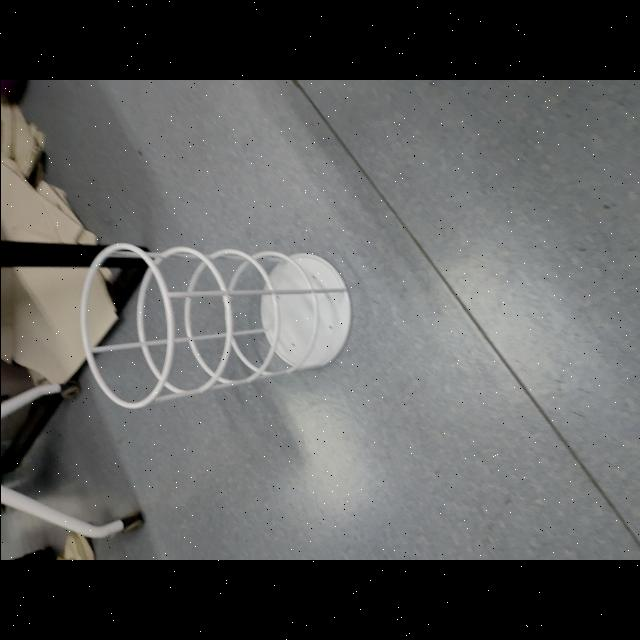S: (77, 238, 353, 412)
